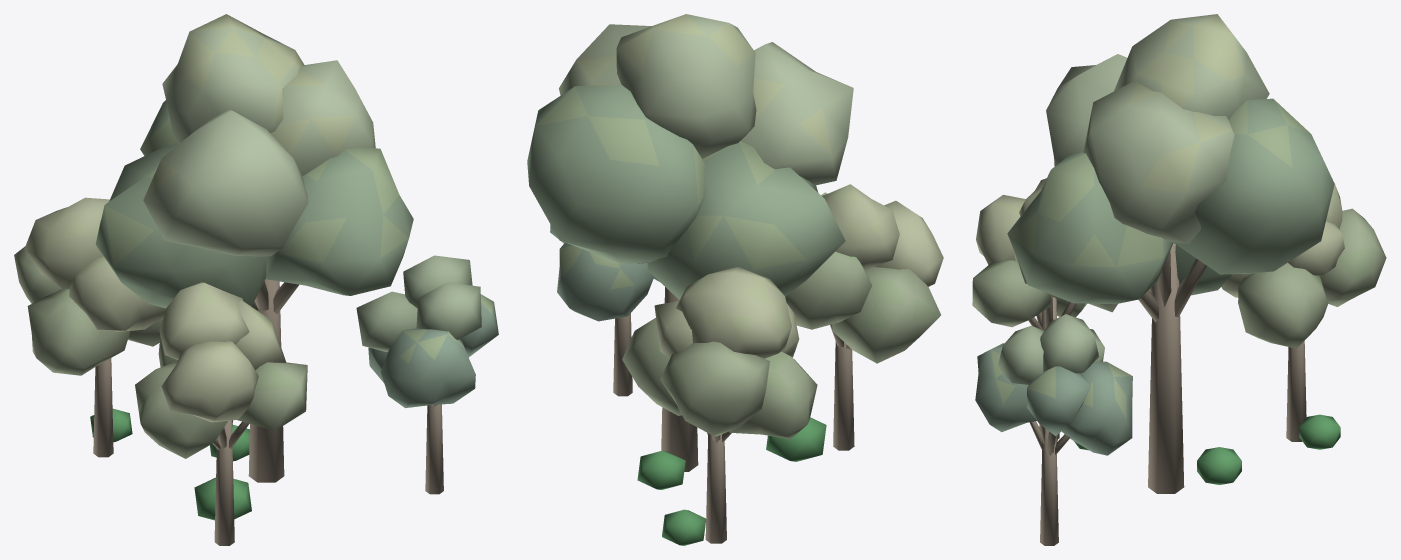
The model's file is terrain-forest-1.glb.
3 views of the same model, side by side, from view 1: azimuth 30°, elevation 25°; view 2: azimuth 150°, elevation 25°; view 3: azimuth 270°, elevation 25° (orthographic). The views are drawn at different scales.
Visible parts, largest first — view 1: terrain-forest-1; view 2: terrain-forest-1; view 3: terrain-forest-1.
Part boxes in pixels (x1=…): terrain-forest-1: x1=14, y1=14, x2=498, y2=545; terrain-forest-1: x1=527, y1=14, x2=943, y2=545; terrain-forest-1: x1=972, y1=14, x2=1386, y2=545.
Size of the model in its own units: 0.9111 by 1.08 by 0.8877.
